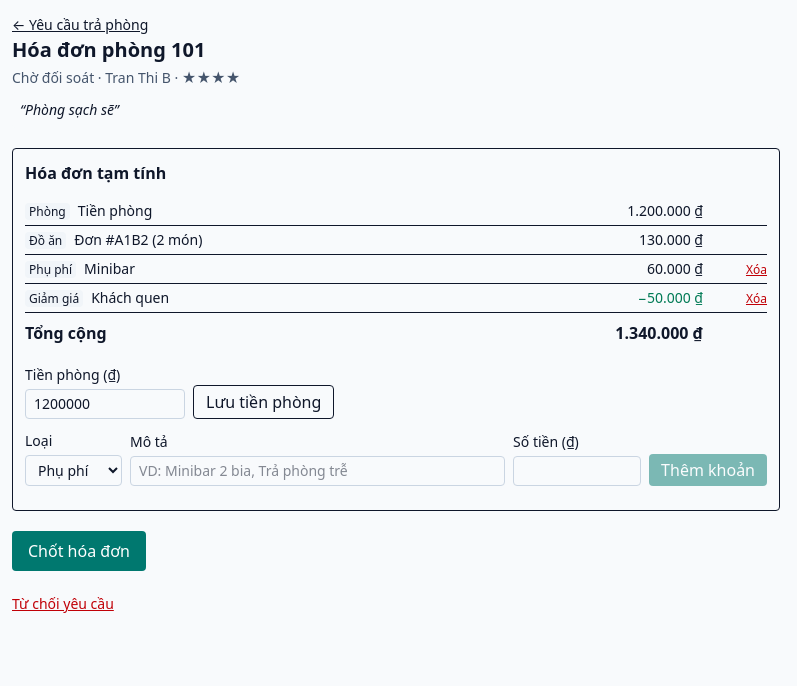
Test case: CheckoutDesk — before the bill is verified › verifies with the current version and explains a race
This screenshot has width=797, height=686.
Click the button "Chốt hóa đơn" at (79, 551), box [12,531,146,571]
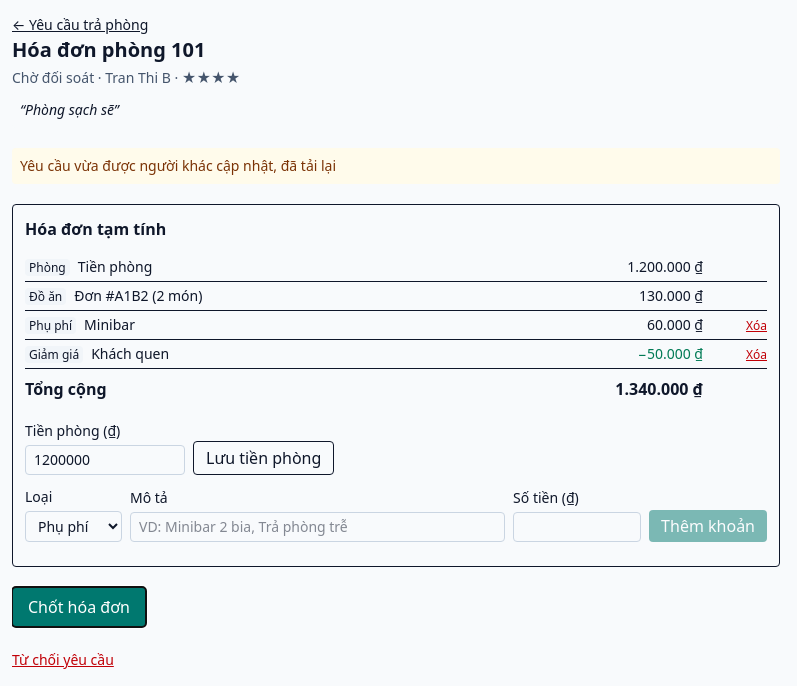
Check: the message shows "vừa được người khác cập nhật", box [20,156,336,175]
